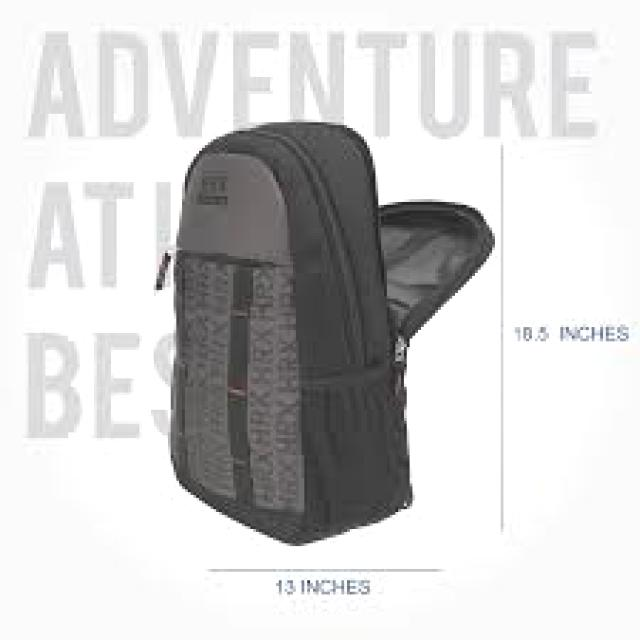backpack: (155, 118, 493, 548)
